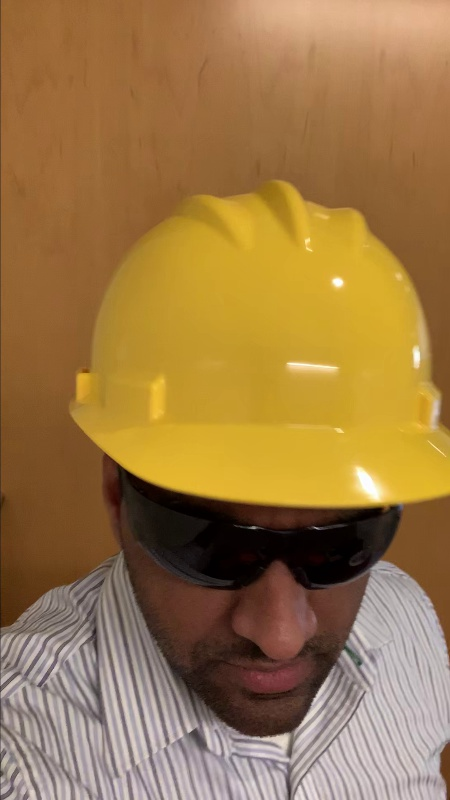glasses: (111, 478, 450, 604)
helmet: (69, 181, 450, 506)
